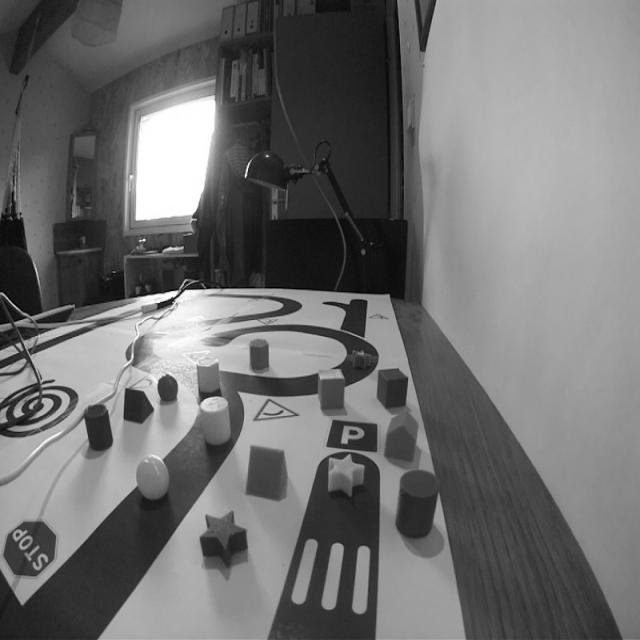Parking: (325, 414, 382, 459)
ball: (132, 451, 173, 504), (154, 372, 180, 404)
cube: (315, 364, 348, 416), (374, 364, 410, 411)
cylinder: (392, 464, 444, 546), (197, 394, 235, 449), (80, 400, 116, 453)
hexagon: (193, 353, 227, 396), (247, 335, 271, 374)
home: (381, 408, 422, 466)
star: (195, 506, 252, 570), (324, 450, 369, 501), (347, 347, 375, 372)
triangle: (245, 440, 292, 506), (121, 382, 156, 428)
zebracross: (272, 530, 382, 620)
